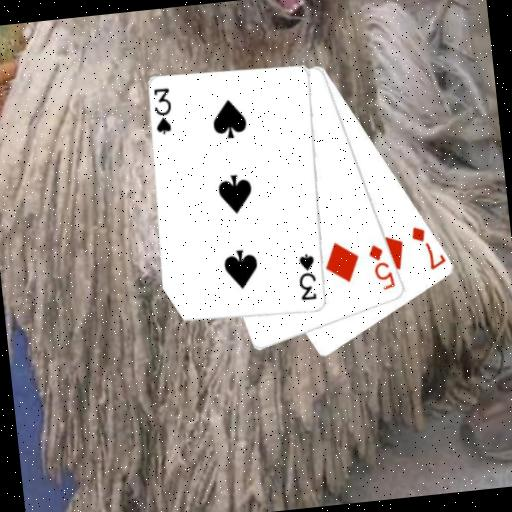3S: (150, 84, 177, 137), (294, 251, 321, 303)
5D: (365, 240, 398, 294)
7D: (407, 221, 447, 274)
